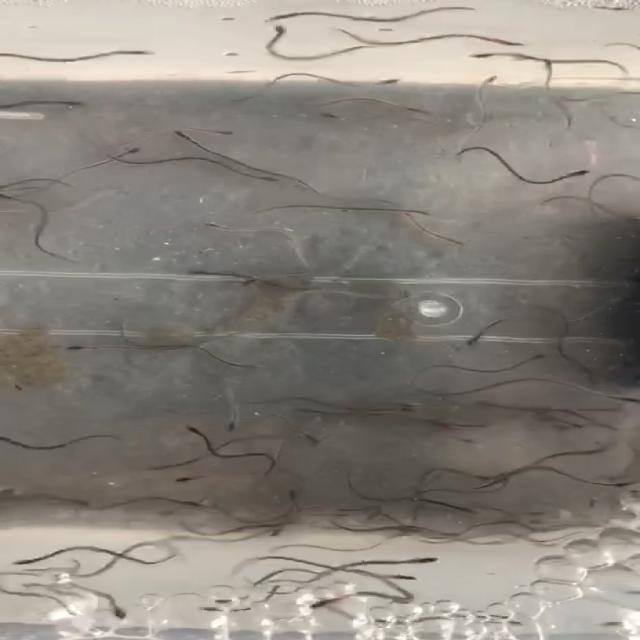active_glass_eel: (389, 187, 438, 215), (228, 358, 280, 379), (1, 191, 51, 212), (189, 121, 248, 138), (194, 218, 248, 235), (230, 170, 282, 187), (17, 439, 66, 456), (448, 331, 494, 348), (584, 388, 628, 405), (560, 420, 594, 442), (6, 551, 46, 569), (548, 165, 598, 179), (181, 267, 216, 287), (261, 590, 299, 608), (566, 369, 602, 388), (338, 186, 378, 203), (409, 552, 448, 569), (484, 51, 523, 67), (579, 44, 623, 58), (40, 341, 96, 352), (247, 27, 293, 40), (164, 494, 201, 510), (184, 473, 228, 486), (181, 423, 211, 442), (475, 73, 507, 90), (446, 233, 470, 254), (102, 592, 130, 610), (406, 101, 439, 116), (591, 476, 635, 487), (520, 353, 557, 366), (128, 45, 159, 60), (518, 463, 551, 477), (311, 112, 357, 122), (260, 8, 298, 20), (99, 145, 140, 156), (528, 56, 559, 70), (376, 74, 406, 88), (284, 490, 312, 505), (224, 416, 250, 432), (296, 433, 320, 450), (369, 301, 406, 312), (499, 30, 526, 45), (615, 178, 640, 194), (51, 97, 83, 109), (414, 8, 448, 18), (266, 528, 288, 543), (386, 571, 408, 585), (208, 393, 230, 401)
